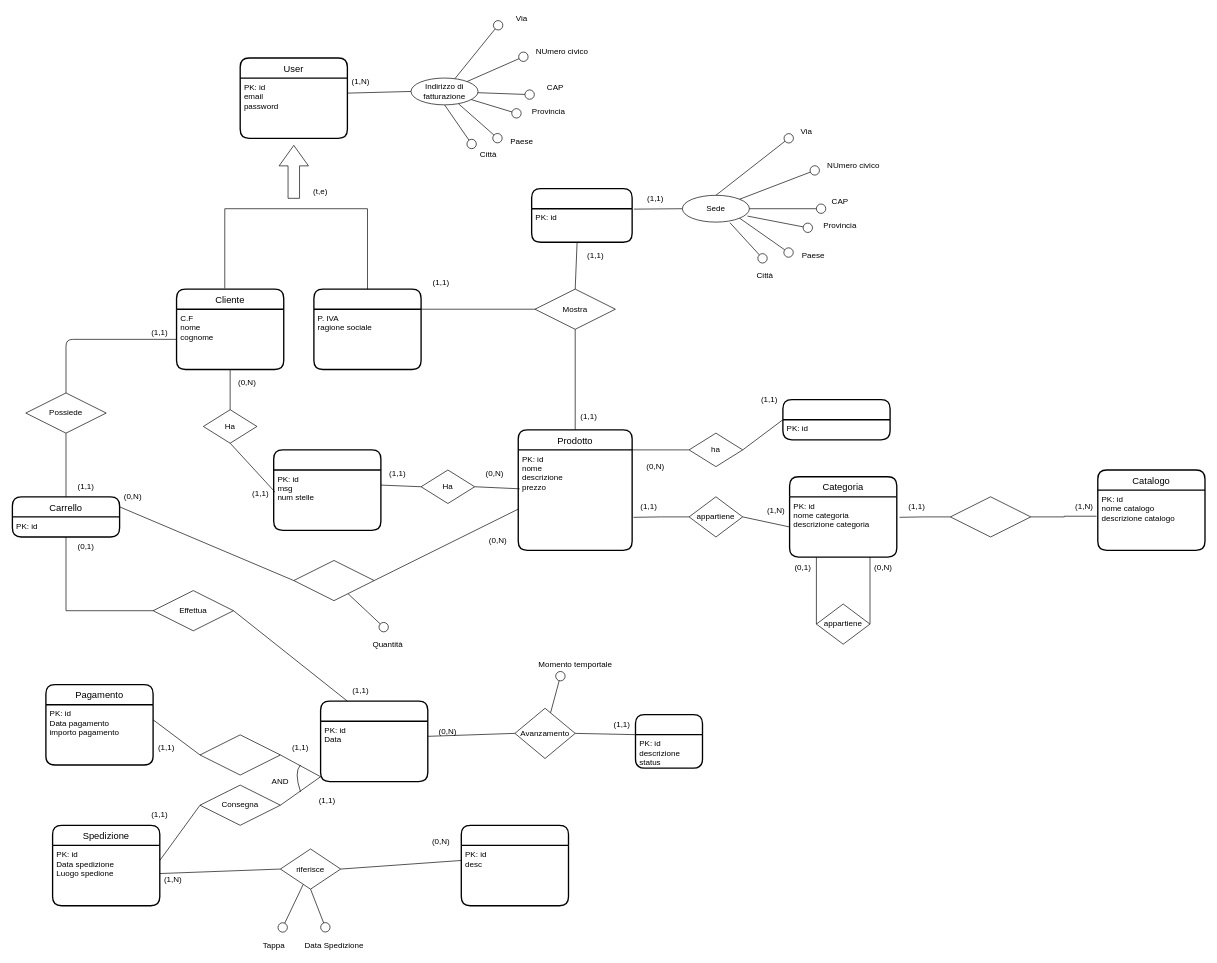
Image size: 1217x963. Some labels were removed from this diagram. Here are the shapes that lost their labels. From the top down, the box of each, then its label:
(531, 188, 632, 243): Magazzino
(313, 288, 421, 370): Venditore
(782, 399, 890, 440): Galleria Immagini
(273, 449, 381, 531): Recensioni
(950, 496, 1031, 537): composto
(293, 560, 374, 601): Contiene
(199, 734, 280, 775): Fatturazione
(320, 700, 428, 782): Ordine
(634, 714, 703, 768): Status Ordine
(460, 824, 569, 906): Corriere
